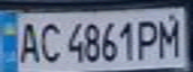1: (115, 17, 136, 62)
4: (63, 18, 84, 63)
6: (100, 18, 121, 63)
8: (81, 18, 103, 63)
A: (12, 18, 42, 64)
C: (36, 18, 63, 64)
M: (154, 12, 184, 60)
P: (136, 16, 163, 60)
